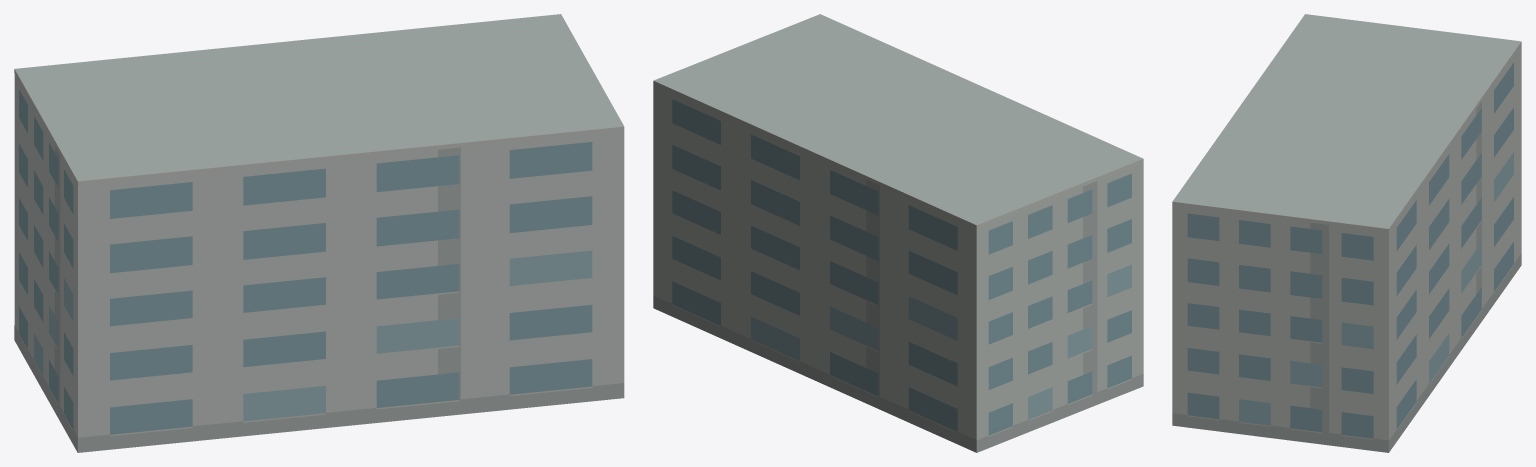
File: residential-32b2efe7-ac6b-4a3d-84ef-589baec9d0c5.glb
3 renders of one model, left to right at view 1: azimuth 30°, elevation 25°; view 2: azimuth 150°, elevation 25°; view 3: azimuth 270°, elevation 25°, orthographic. The views are drawn at different scales.
Visible parts, largest first — view 1: residential-32b2efe7-ac6b-4a3d-84ef-589baec9d0c5.tmp; view 2: residential-32b2efe7-ac6b-4a3d-84ef-589baec9d0c5.tmp; view 3: residential-32b2efe7-ac6b-4a3d-84ef-589baec9d0c5.tmp.
Part boxes in pixels (x1=…): residential-32b2efe7-ac6b-4a3d-84ef-589baec9d0c5.tmp: x1=14, y1=14, x2=624, y2=452; residential-32b2efe7-ac6b-4a3d-84ef-589baec9d0c5.tmp: x1=653, y1=14, x2=1143, y2=452; residential-32b2efe7-ac6b-4a3d-84ef-589baec9d0c5.tmp: x1=1172, y1=14, x2=1521, y2=452.
Bounding box in the file's own units: 31.41 × 15.25 × 21.56.
